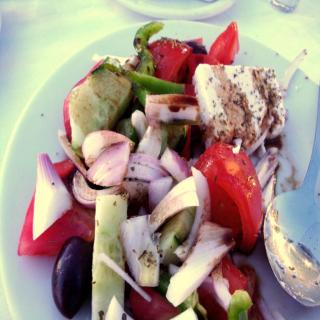tomato: (197, 135, 265, 257), (16, 190, 95, 256), (148, 37, 191, 83), (210, 19, 238, 62), (219, 258, 247, 297)
